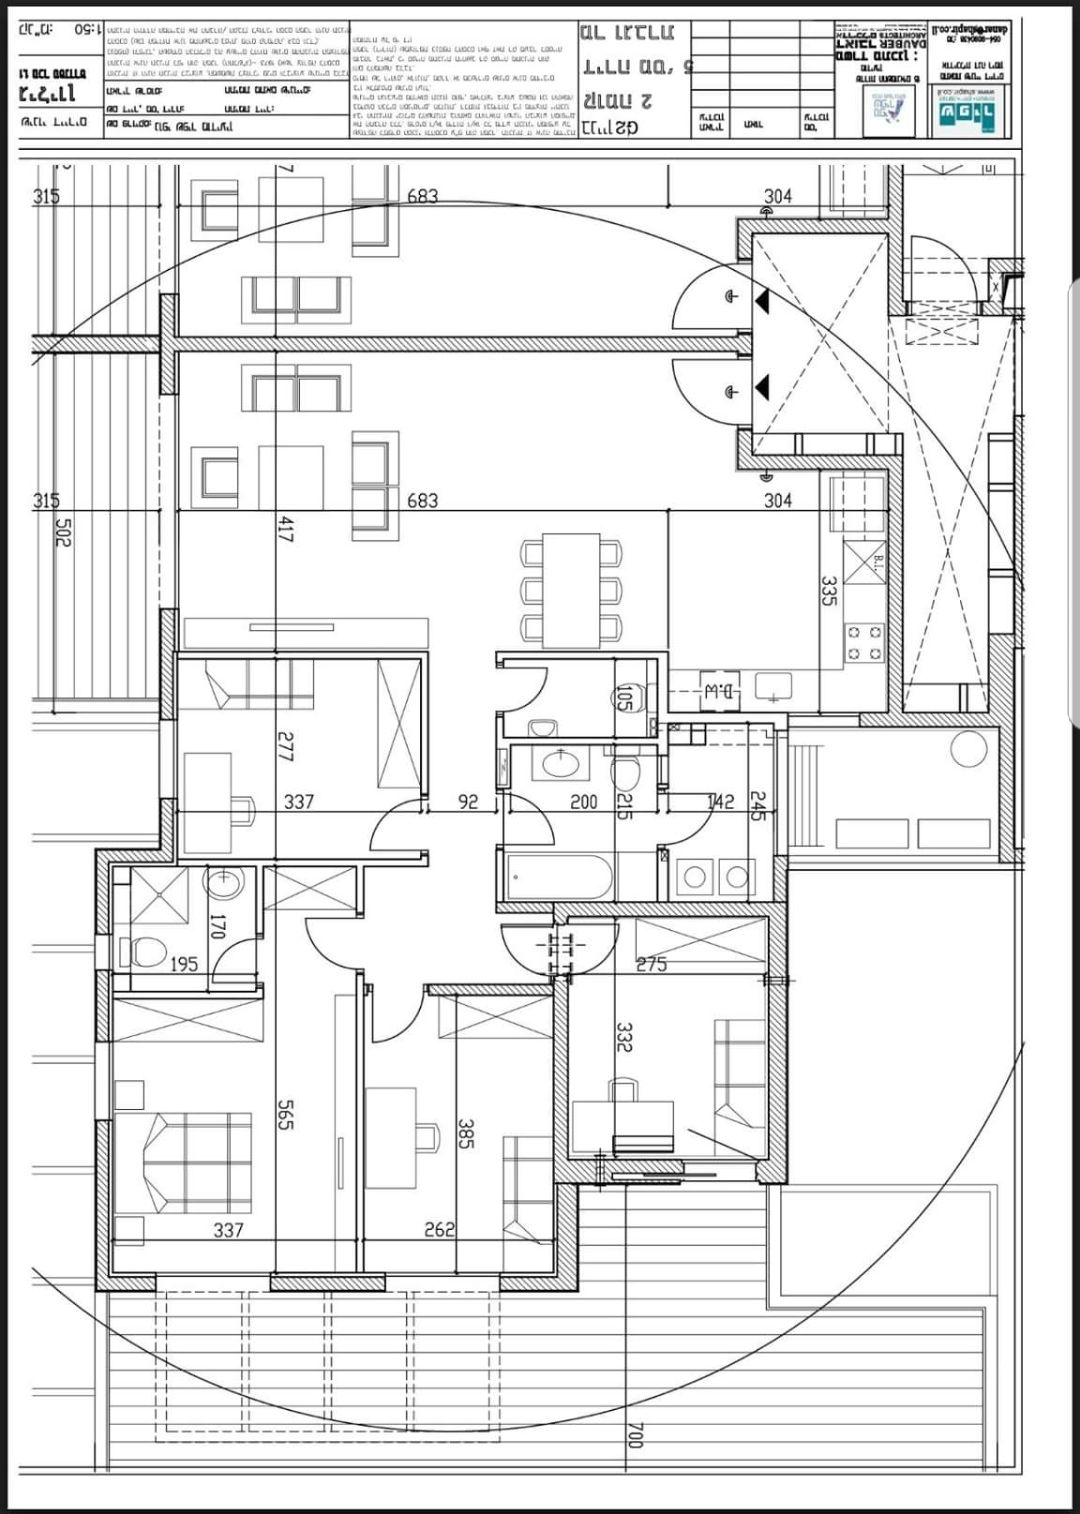door: (666, 353, 734, 429), (669, 258, 736, 334), (906, 231, 978, 297), (489, 919, 552, 980), (567, 919, 630, 980), (508, 790, 572, 850), (362, 796, 425, 856), (501, 662, 565, 723), (662, 787, 725, 848), (299, 914, 355, 977), (367, 992, 429, 1047)
rd: (11, 9, 1037, 143)
room: (94, 991, 362, 1289), (354, 982, 568, 1292), (157, 648, 428, 868)
wall: (175, 336, 752, 353), (769, 901, 785, 1185), (889, 454, 902, 725), (1001, 632, 1012, 864), (859, 713, 1012, 724)
window: (158, 394, 181, 611), (155, 1270, 270, 1293), (385, 1272, 498, 1296), (94, 1039, 115, 1121), (157, 718, 178, 800), (94, 932, 115, 970)
